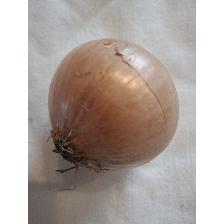Zwiebel: (46, 36, 180, 174)
